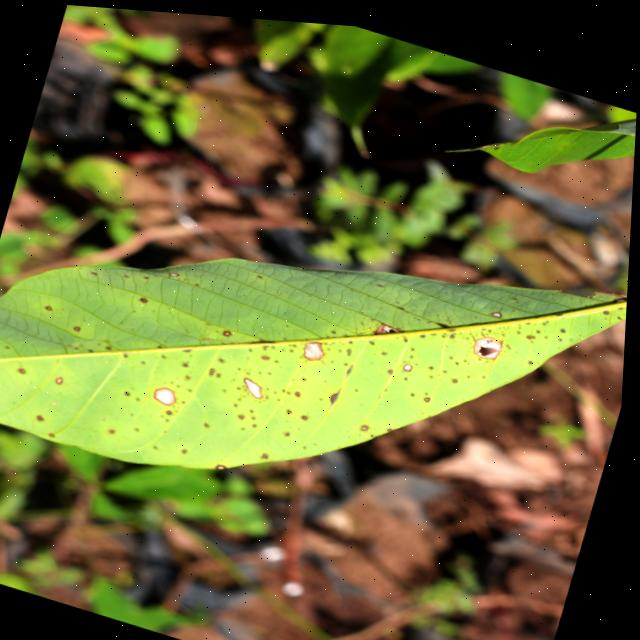Colletotrichum: (474, 325, 506, 355), (154, 381, 181, 404), (405, 355, 416, 366), (57, 373, 67, 384), (224, 325, 234, 334), (219, 459, 230, 467), (170, 268, 181, 275), (493, 302, 504, 309), (75, 324, 84, 330), (425, 389, 433, 395), (48, 304, 55, 309)
